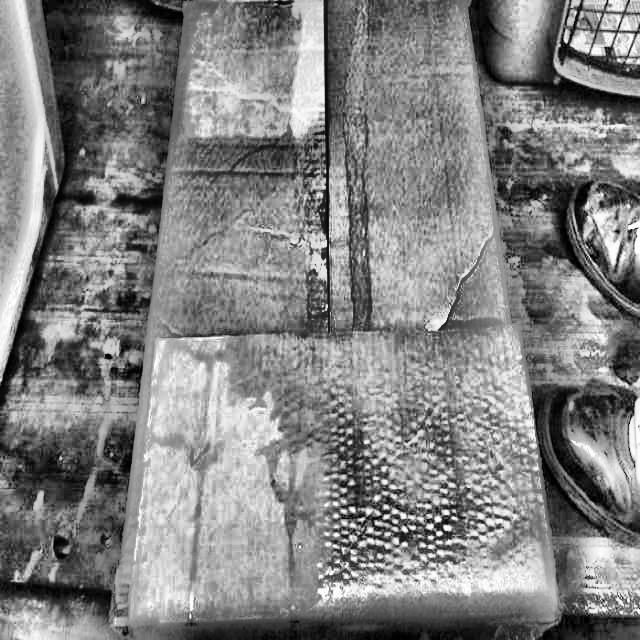box: (106, 0, 565, 639)
wet: (225, 344, 547, 610)
